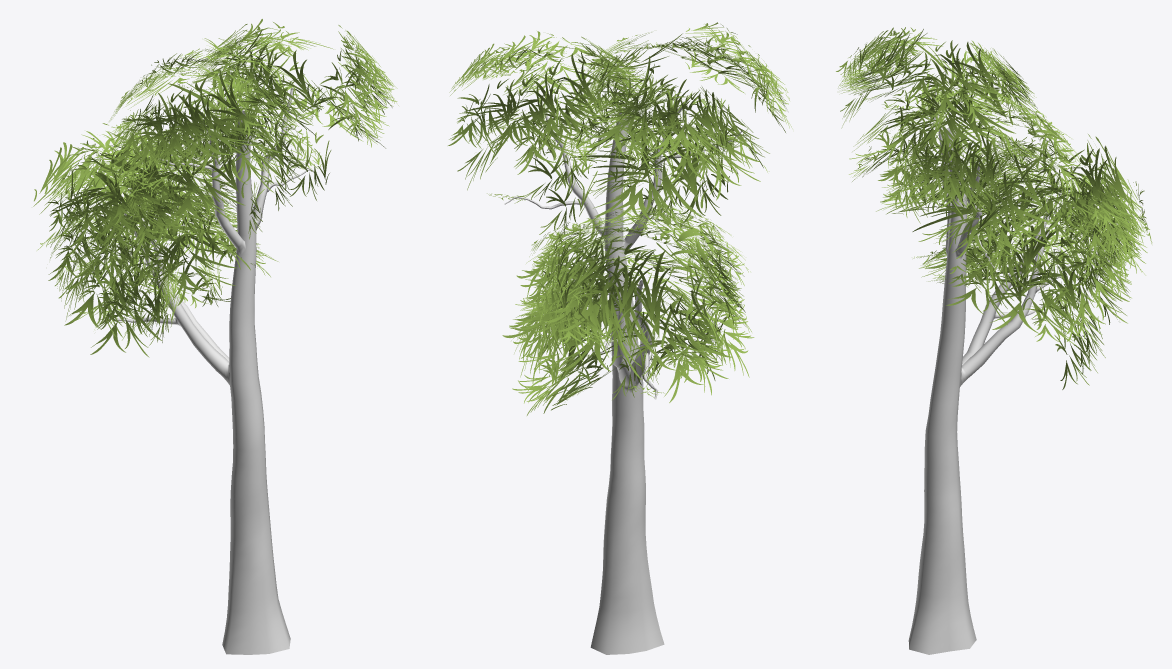
Rendered from tree2.fbx.
The picture shows the model from 3 angles, left to right: view 1: azimuth 30°, elevation 25°; view 2: azimuth 150°, elevation 25°; view 3: azimuth 270°, elevation 25°; orthographic projection. The views are drawn at different scales.
Visible parts, largest first — view 1: leaves_spiky, tree2; view 2: leaves_spiky, tree2; view 3: leaves_spiky, tree2.
Boxes of the visible parts, box(x1,y1,x2,y2) form: leaves_spiky: box(33, 19, 398, 357); tree2: box(106, 88, 313, 654); leaves_spiky: box(448, 22, 792, 415); tree2: box(504, 102, 741, 654); leaves_spiky: box(836, 27, 1152, 389); tree2: box(908, 83, 1119, 654).
Size of the model in its own units: 487 by 448 by 884.
